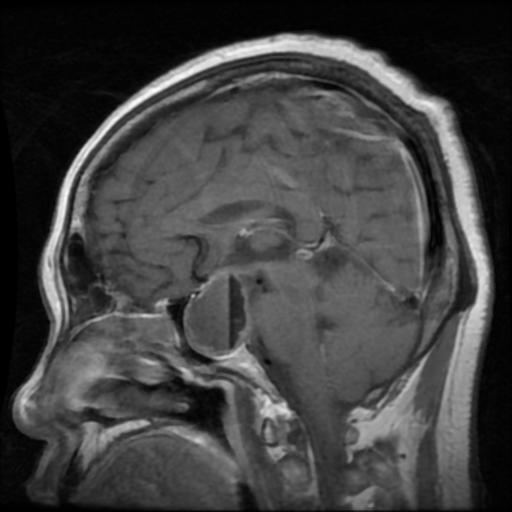Pituirity_tumour: (181, 266, 254, 356)
